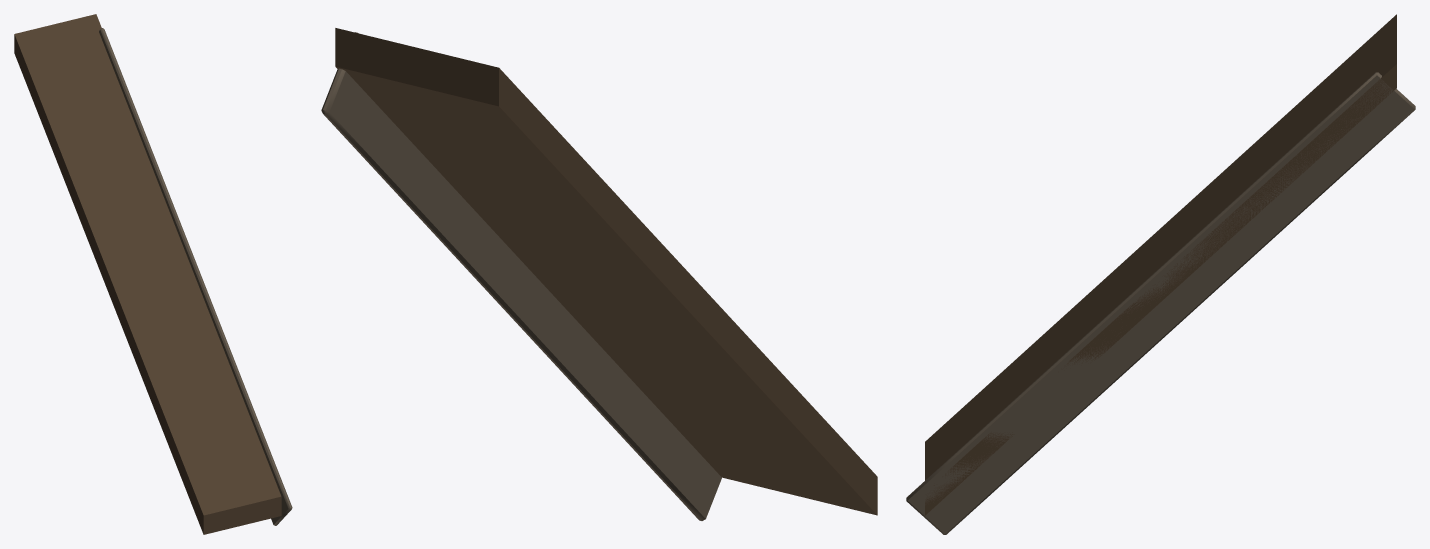
File: dach_ortgang_r.glb
3 renders of one model, left to right at view 1: azimuth 30°, elevation 25°; view 2: azimuth 150°, elevation 25°; view 3: azimuth 270°, elevation 25°, orthographic. The views are drawn at different scales.
Visible parts, largest first — view 1: dach_ortgang_r; view 2: dach_ortgang_r; view 3: dach_ortgang_r.
Boxes of the visible parts, bbox=[...] form: dach_ortgang_r: bbox=[14, 14, 292, 534]; dach_ortgang_r: bbox=[321, 28, 877, 520]; dach_ortgang_r: bbox=[906, 14, 1415, 534].
Bounding box in the file's own units: 0.5 × 2.21 × 2.16.
